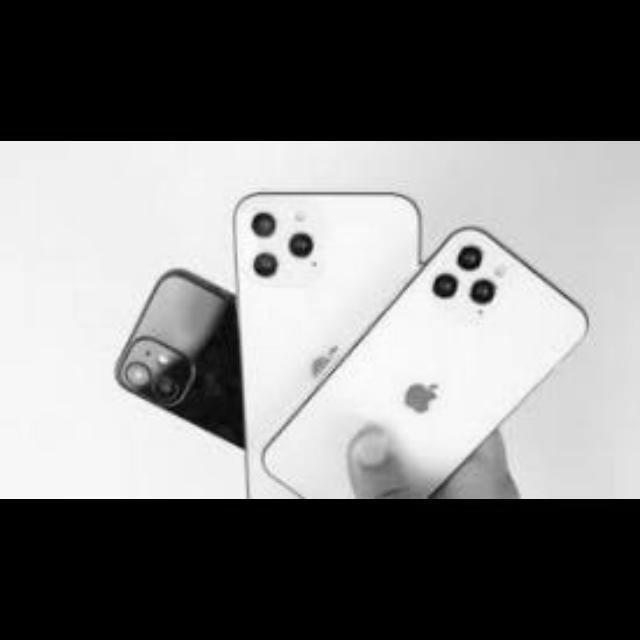fake: (232, 182, 430, 500), (106, 262, 244, 484)
